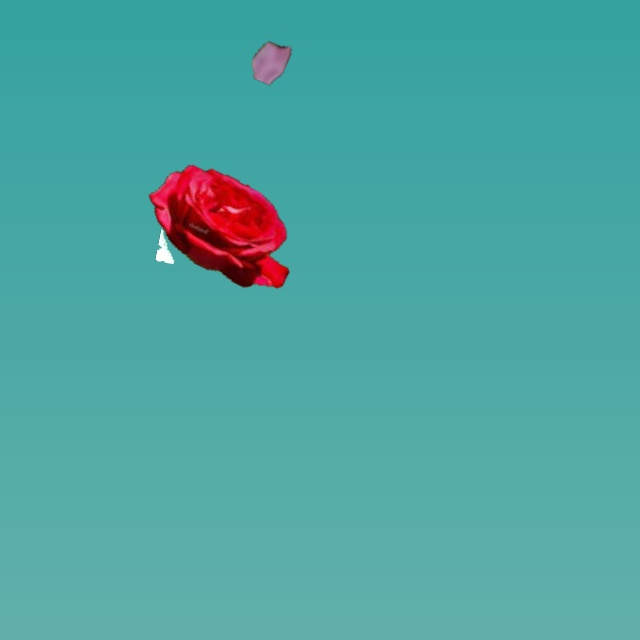cape flower: (252, 42, 291, 84)
orchid: (155, 210, 260, 263)
rose: (149, 165, 288, 287)
